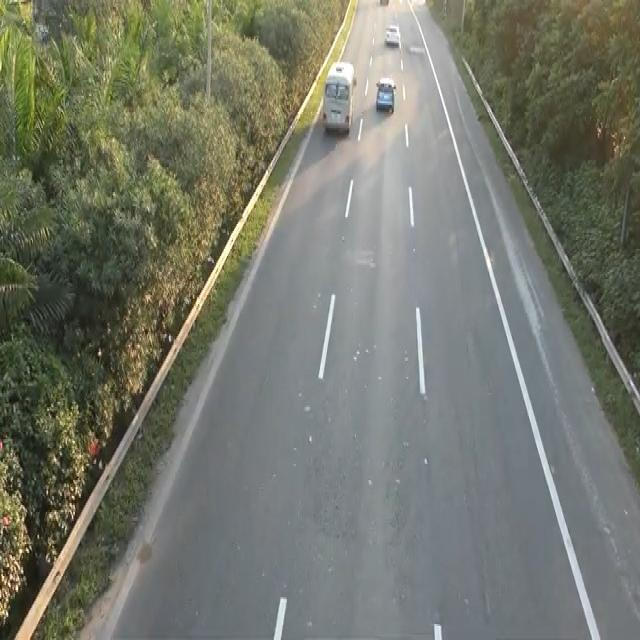bus: (374, 73, 396, 114)
jeep: (320, 57, 357, 137)
